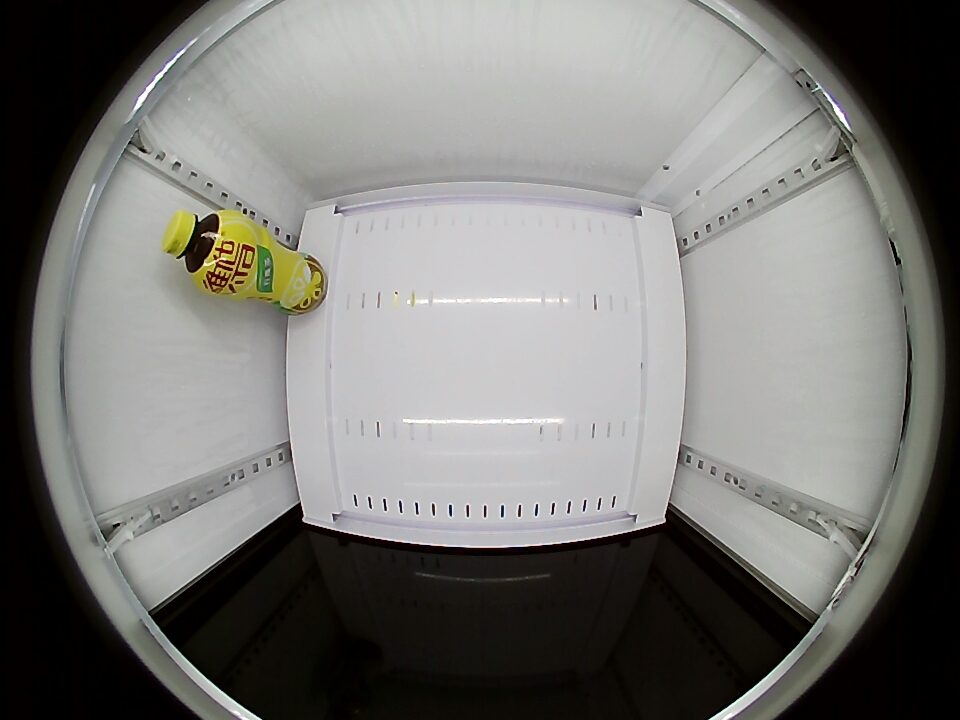weitaningmeng-bottle: (162, 208, 244, 290)
